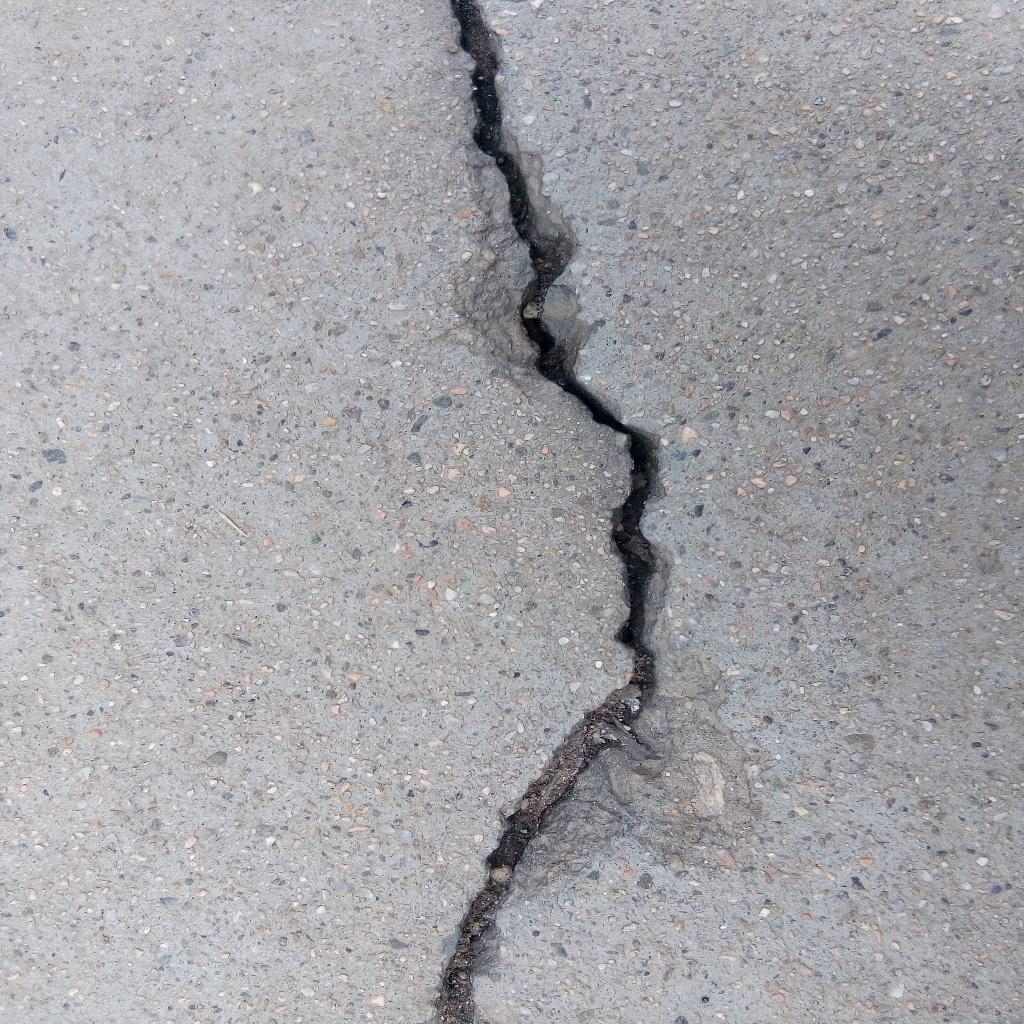Crack: (427, 1, 668, 1024)
Spalling: (507, 655, 756, 901)
